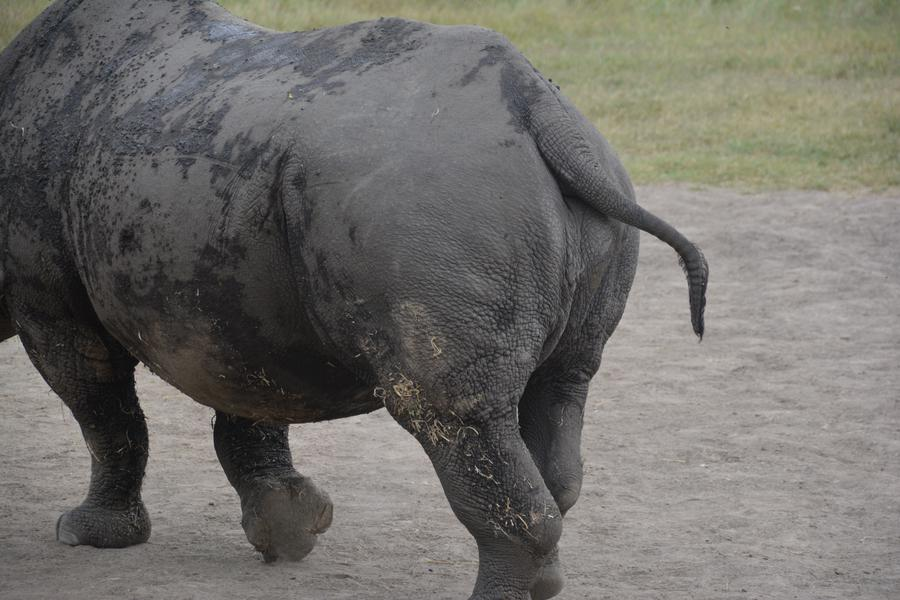rhino: (17, 16, 608, 563)
